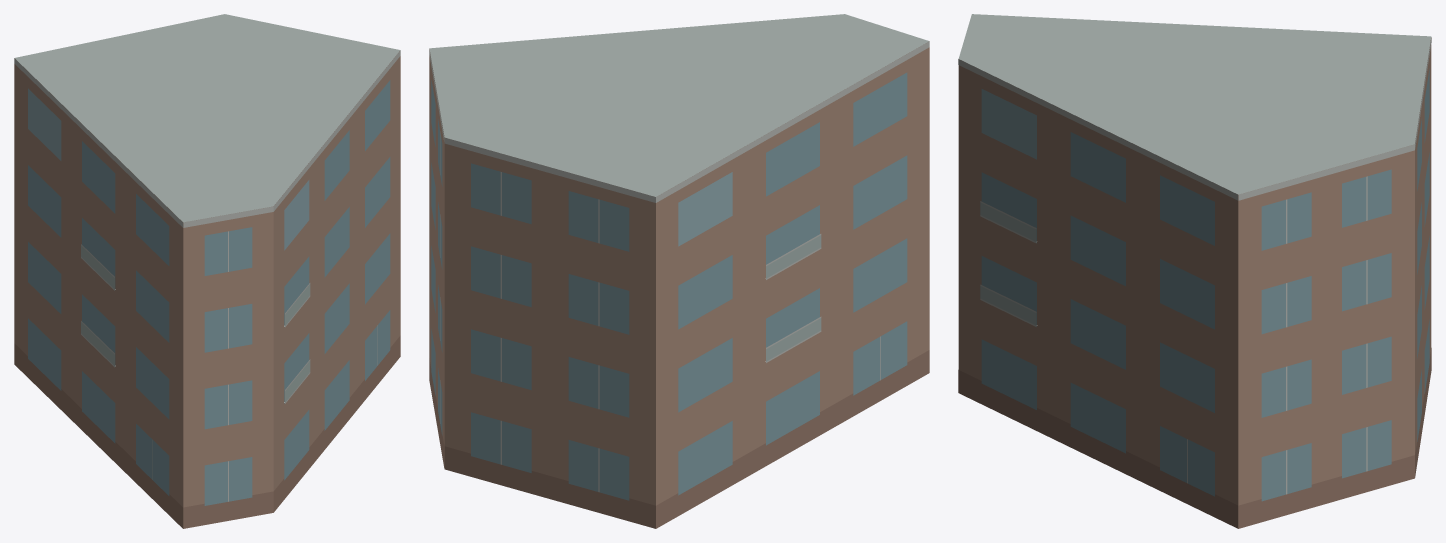
Rendered from survey-upis-32814620.glb.
The picture shows the model from 3 angles, left to right: view 1: azimuth 30°, elevation 25°; view 2: azimuth 150°, elevation 25°; view 3: azimuth 270°, elevation 25°; orthographic projection. The views are drawn at different scales.
Parts seen in each view (by area): view 1: survey-upis-32814620.tmp; view 2: survey-upis-32814620.tmp; view 3: survey-upis-32814620.tmp.
Part boxes in pixels (x1,y1,x2,y2): survey-upis-32814620.tmp: (14, 14, 400, 528); survey-upis-32814620.tmp: (429, 14, 929, 528); survey-upis-32814620.tmp: (958, 14, 1431, 528).
Size of the model in its own units: 15.55 by 13.4 by 17.2.
